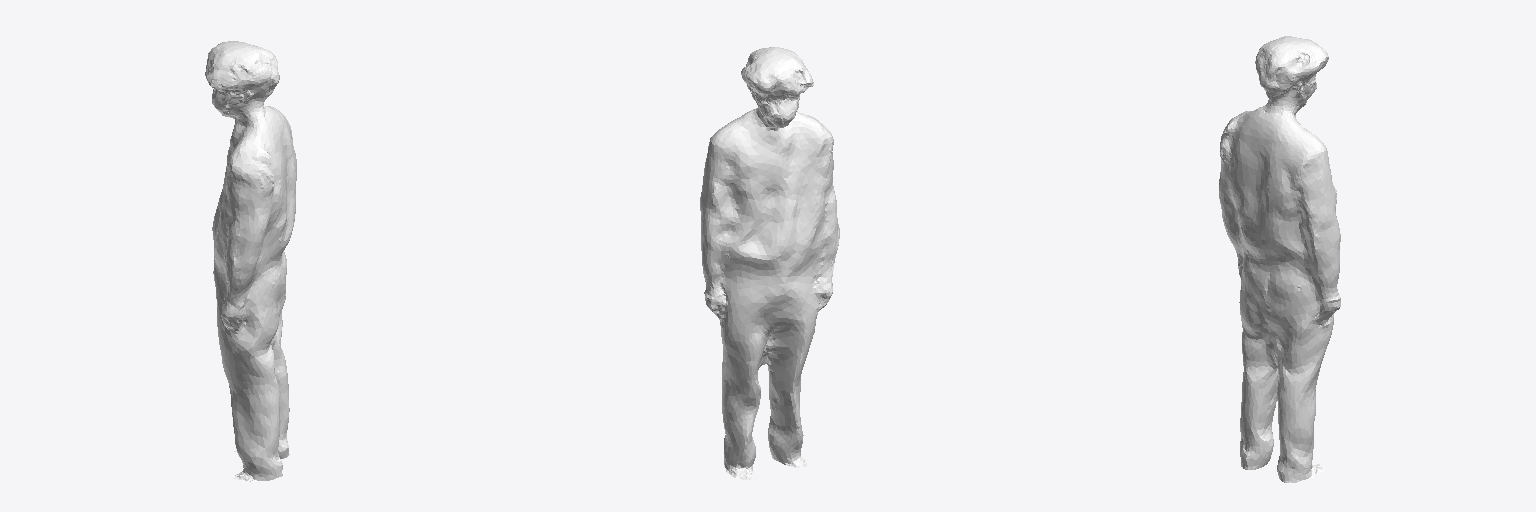
The model's file is devyn.obj.
3 views of the same model, side by side, from view 1: azimuth 30°, elevation 25°; view 2: azimuth 150°, elevation 25°; view 3: azimuth 270°, elevation 25° (orthographic).
Bounding box in the file's own units: 0.4142 × 1.67 × 0.4438.